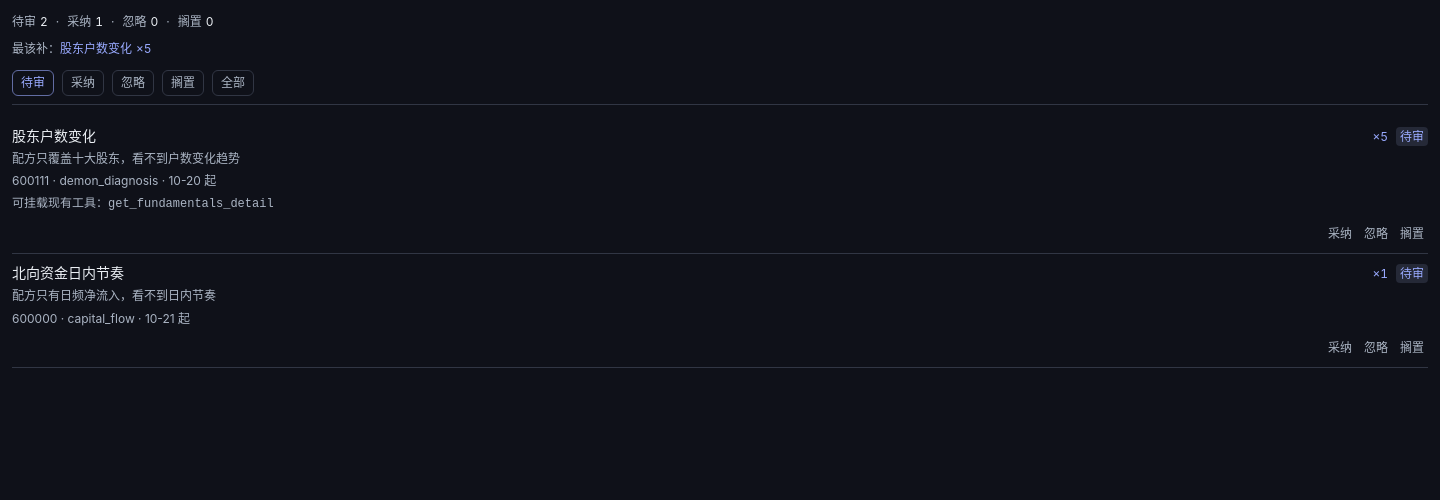
Test: ProposalPanel › 切 tab：带上对应 status 参数，全部 tab 不带 status
Expected: the number of list items with test id "proposal-row" is 2, x1=12 y1=117 x2=1428 y2=254; x1=12 y1=254 x2=1428 y2=368
Click the button with test id "proposal-tab-accept": point(83, 83) x1=62 y1=70 x2=104 y2=96
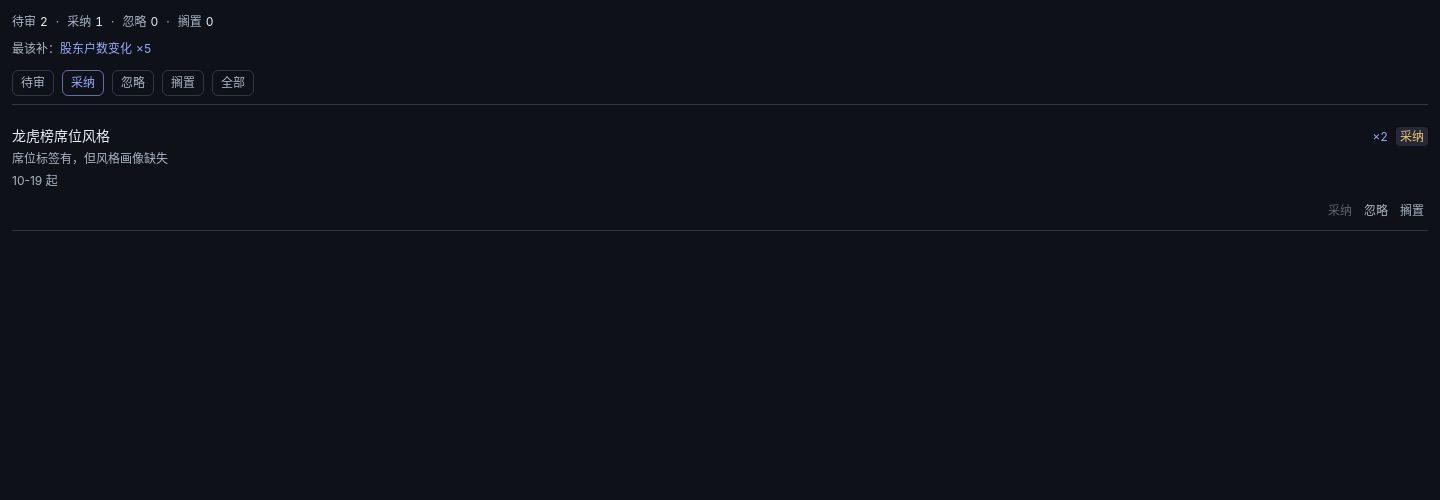
Now the number of list items with test id "proposal-row" is 1, box x1=12 y1=117 x2=1428 y2=231
Now the text "龙虎榜席位风格" is shown, box x1=12 y1=127 x2=110 y2=144
Click the button with test id "proposal-tab-all": point(233, 83) x1=212 y1=70 x2=254 y2=96
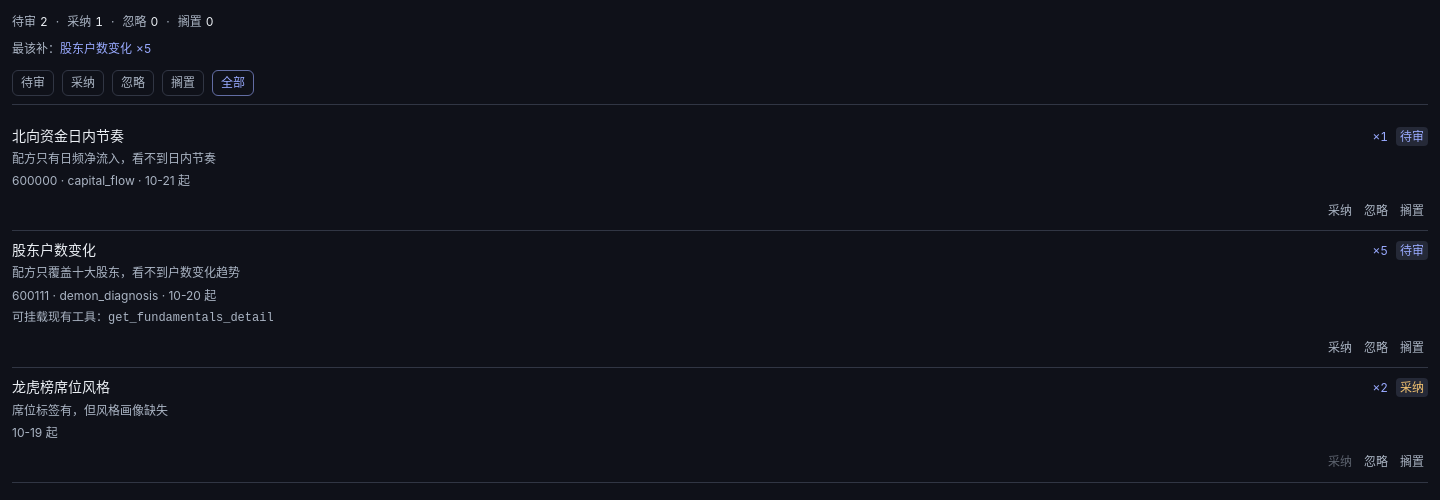
Now the number of list items with test id "proposal-row" is 3, box x1=12 y1=117 x2=1428 y2=231; x1=12 y1=231 x2=1428 y2=368; x1=12 y1=368 x2=1428 y2=483
